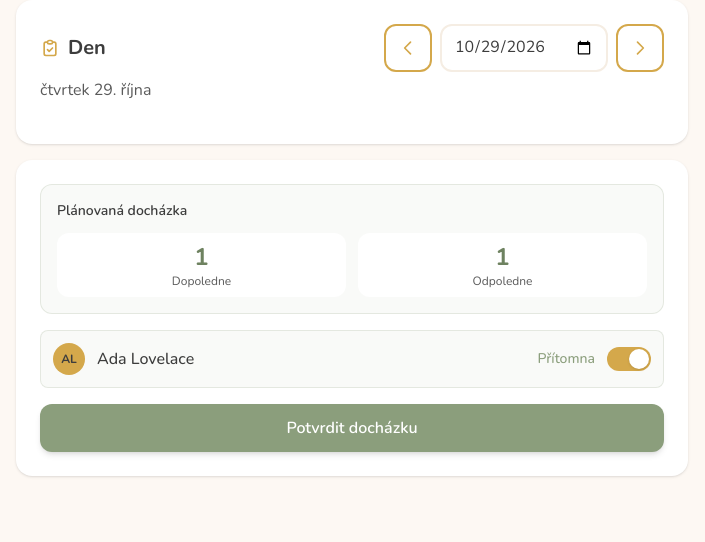
TeacherAttendancePage › keeps future attendance read-only
Expected: the checkbox is shown, [40,330,664,388]
Expected: the button "Potvrdit docházku" is shown, [40,404,664,452]
Click the button named "Následující den" at [640, 48], box [616,24,664,72]
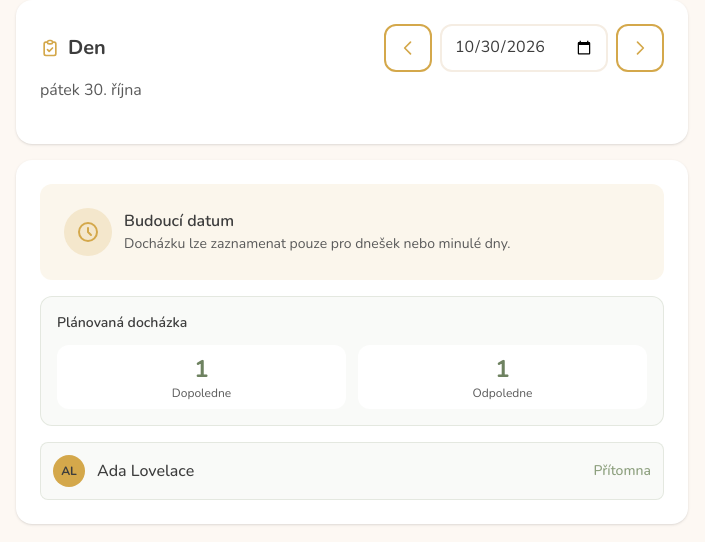
Expected: the text "Budoucí datum" is shown, [124,210,234,232]
Expected: the checkbox is gone
Expected: the button "Potvrdit docházku" is gone
